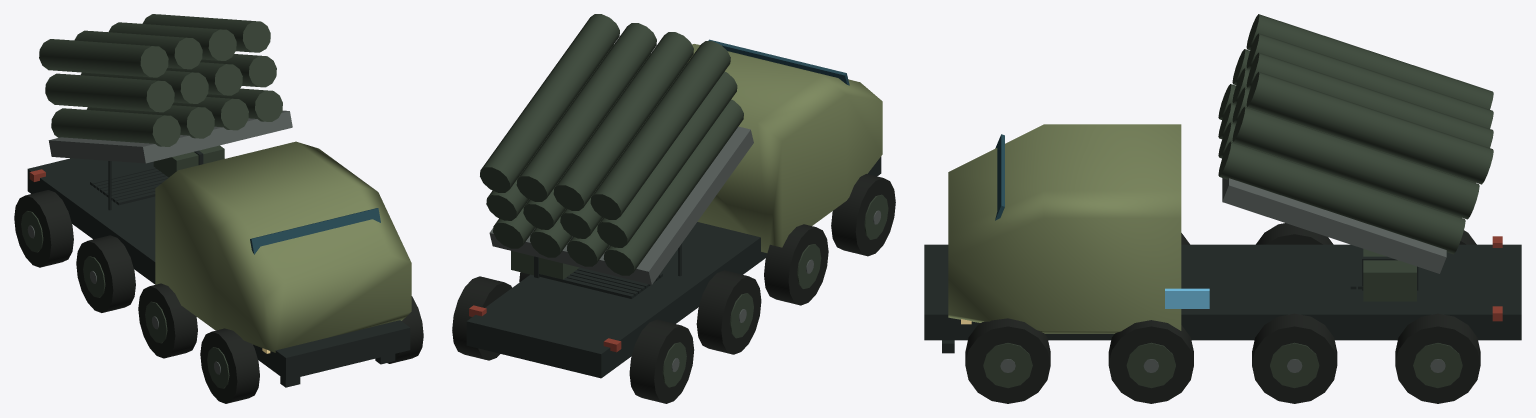
The model's file is mlrs.glb.
3 renders of one model, left to right at view 1: azimuth 30°, elevation 25°; view 2: azimuth 150°, elevation 25°; view 3: azimuth 270°, elevation 25°, orthographic. The views are drawn at different scales.
Parts seen in each view (by area): view 1: armor, trim (×2), dark, rubber, steel, glass, stowage; view 2: trim (×2), armor, dark, rubber, steel, stowage, glass; view 3: trim (×2), armor, dark, rubber, steel (×2), stowage, marking, glass.
Boxes of the visible parts, x1,y1,x2,y2 form: armor: (155, 141, 411, 352); trim (×2): (21, 14, 282, 388); dark: (27, 150, 410, 387); rubber: (14, 190, 423, 403); steel: (48, 110, 292, 163); glass: (250, 208, 380, 254); stowage: (153, 145, 224, 177); trim (×2): (480, 14, 888, 387); armor: (688, 44, 882, 252); dark: (466, 156, 881, 378); rubber: (452, 174, 895, 403); steel: (489, 126, 753, 284); stowage: (511, 251, 579, 282); glass: (708, 39, 849, 85); trim (×2): (983, 14, 1493, 388); armor: (948, 124, 1181, 333); dark: (924, 244, 1521, 353); rubber: (965, 223, 1480, 403); steel (×2): (1000, 178, 1446, 372); stowage: (1363, 249, 1416, 301); marking: (1165, 288, 1209, 308); glass: (995, 134, 1004, 220).
Size of the model in its own units: 2.84 by 3.8 by 6.7.
